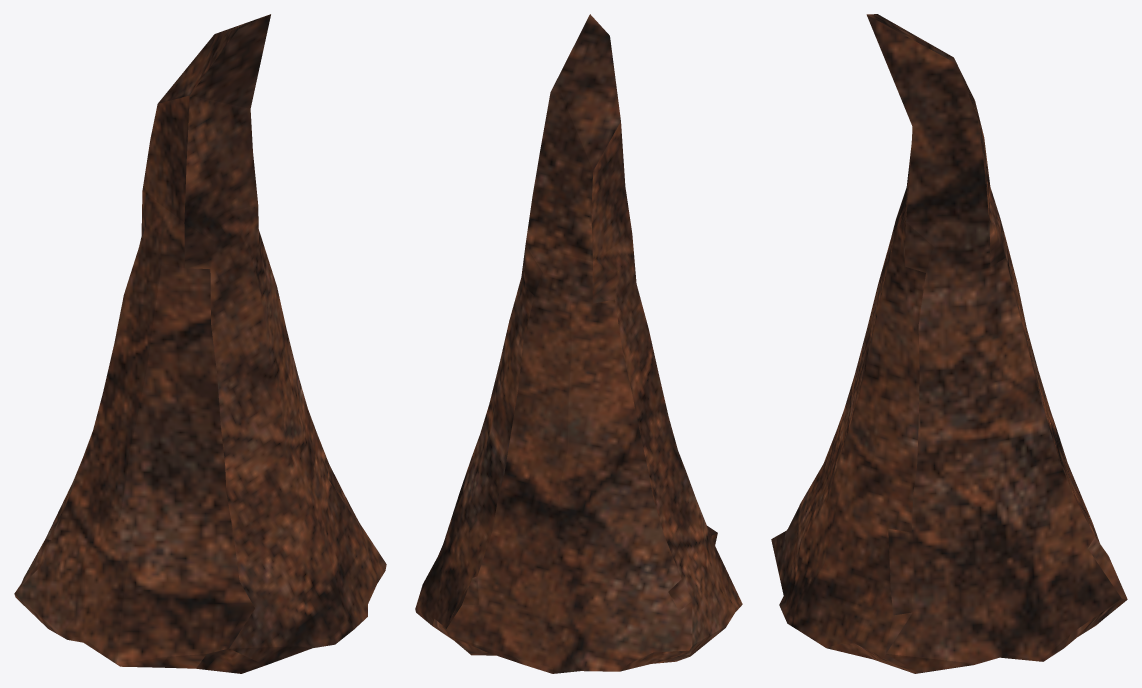
The model's file is Spike.glb.
The picture shows the model from 3 angles, left to right: view 1: azimuth 30°, elevation 25°; view 2: azimuth 150°, elevation 25°; view 3: azimuth 270°, elevation 25°; orthographic projection. The views are drawn at different scales.
Visible parts, largest first — view 1: Plane; view 2: Plane; view 3: Plane.
Boxes of the visible parts, x1,y1,x2,y2 form: Plane: (14, 14, 386, 673); Plane: (415, 14, 742, 673); Plane: (771, 14, 1127, 673).
Bounding box in the file's own units: 2.4 × 4.62 × 2.43.
Materials: 1 (1 with a texture image).
